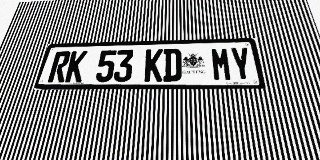3: (113, 50, 134, 82)
5: (95, 50, 117, 82)
D: (163, 48, 182, 82)
K: (64, 51, 88, 82), (144, 49, 163, 82)
M: (210, 47, 233, 81)
R: (47, 51, 72, 82)
Y: (229, 47, 254, 81)
